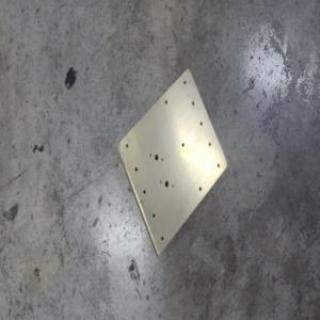MetalSheettrack_idkeyframe: (114, 66, 228, 260)
